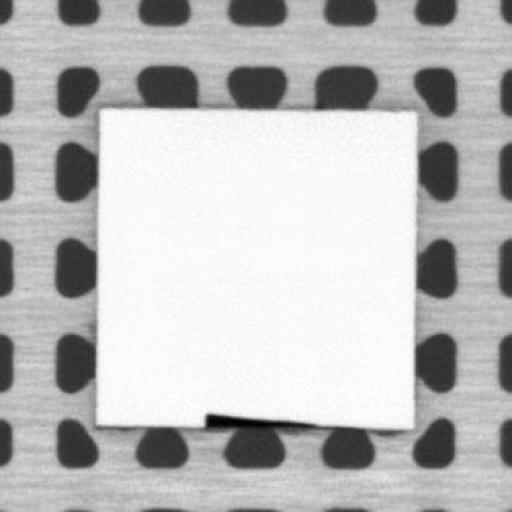DIE_BROKEN: (199, 409, 318, 431)
